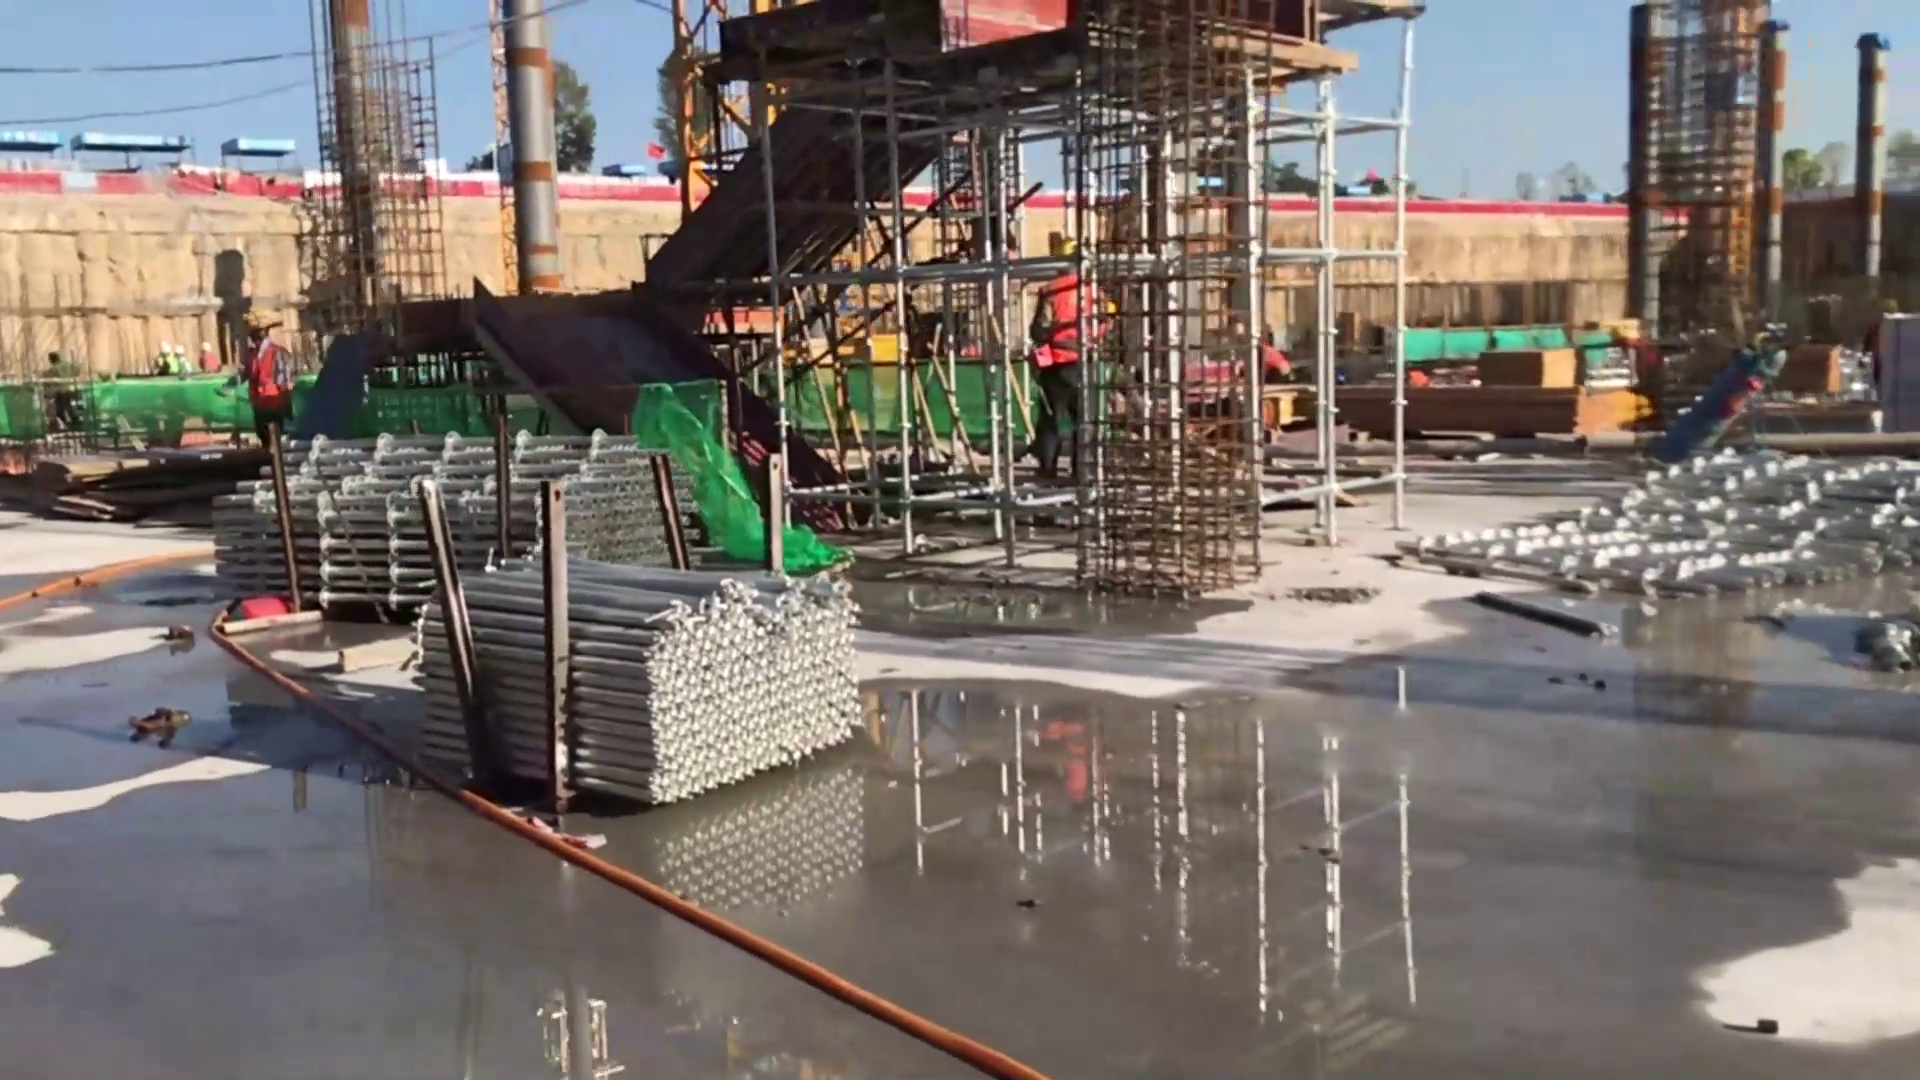person: (1031, 246, 1102, 476), (236, 308, 290, 430)
scaffold: (421, 560, 867, 803), (216, 434, 700, 608), (1532, 451, 1920, 583)
